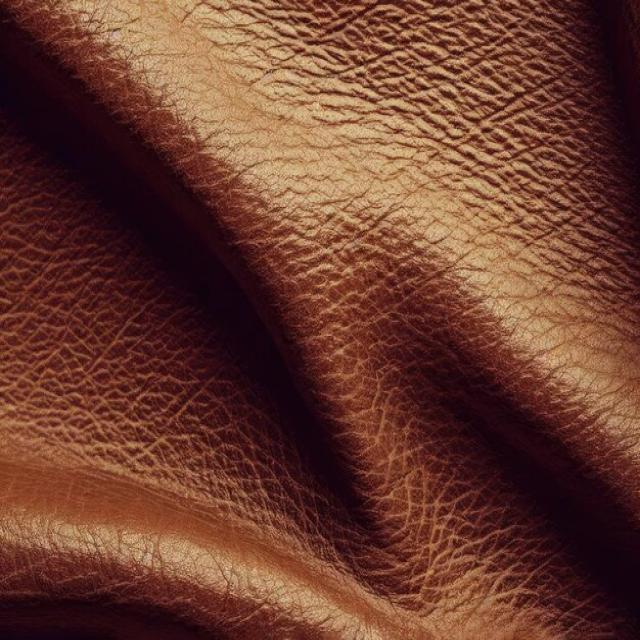Crease: (58, 460, 371, 631), (139, 73, 336, 307), (421, 250, 612, 425)
